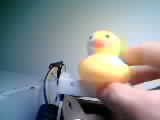duck: (75, 30, 137, 96)
